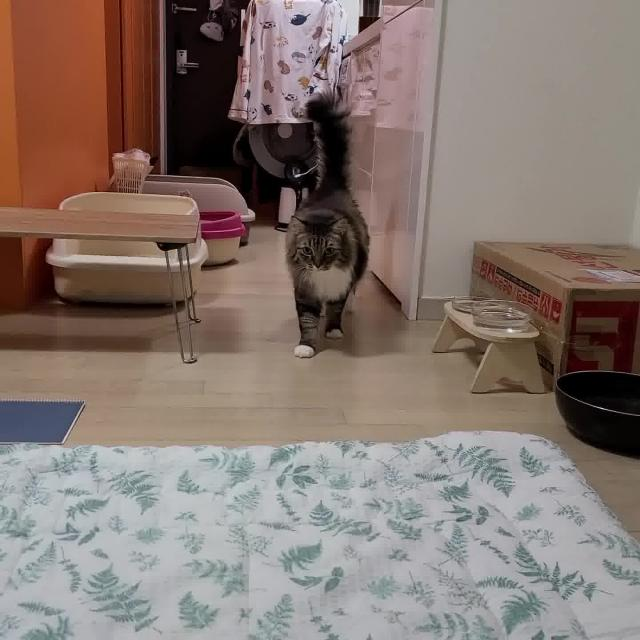cat: (258, 79, 388, 381)
